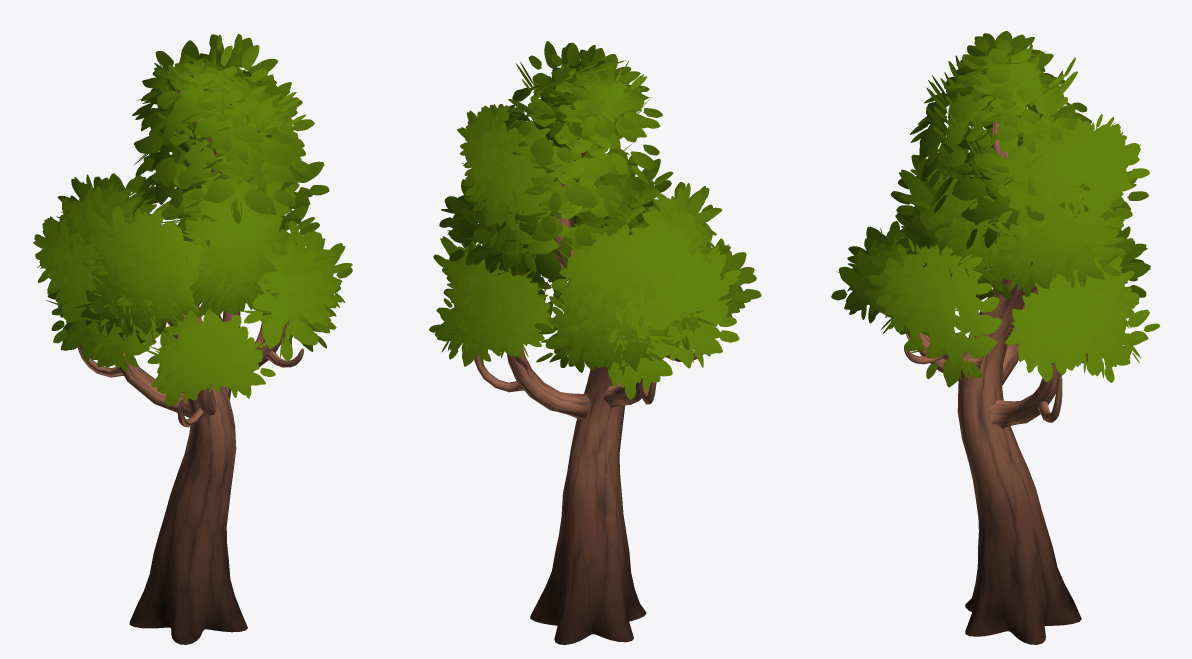
The model's file is CommonTree_2.gltf.
The picture shows the model from 3 angles, left to right: view 1: azimuth 30°, elevation 25°; view 2: azimuth 150°, elevation 25°; view 3: azimuth 270°, elevation 25°; orthographic projection. The views are drawn at different scales.
Parts seen in each view (by area): view 1: CommonTree_2; view 2: CommonTree_2; view 3: CommonTree_2.
Boxes of the visible parts, box(x1,y1,x2,y2) form: CommonTree_2: box(33, 34, 352, 644); CommonTree_2: box(429, 41, 761, 644); CommonTree_2: box(831, 31, 1159, 644).
Size of the model in its own units: 4.46 by 7.64 by 4.28.
Materials: 2 (2 with a texture image).
